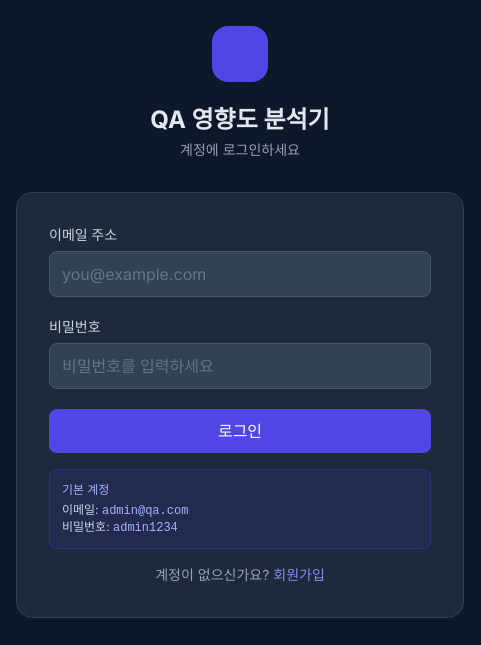
Test: C10 — LoginPage › submit with empty email shows inline error message
// Leave email blank, fill password so only email errors
In the password field with test id "password-input": {"x": 240, "y": 366} [49, 343, 431, 389], type "anypassword"
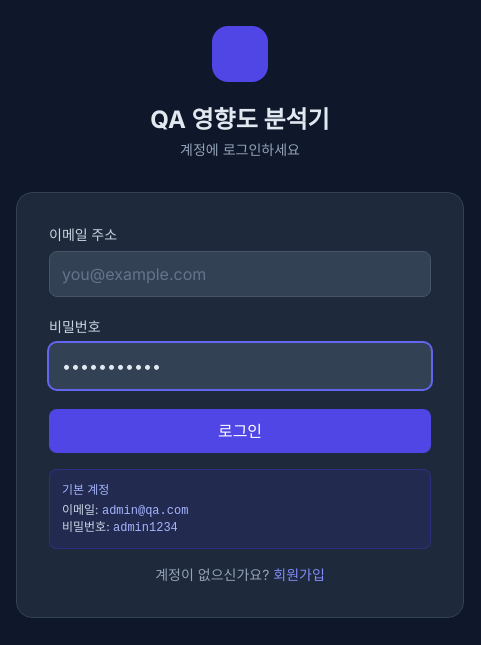
Click the button with test id "login-btn": {"x": 240, "y": 431} [49, 409, 431, 453]
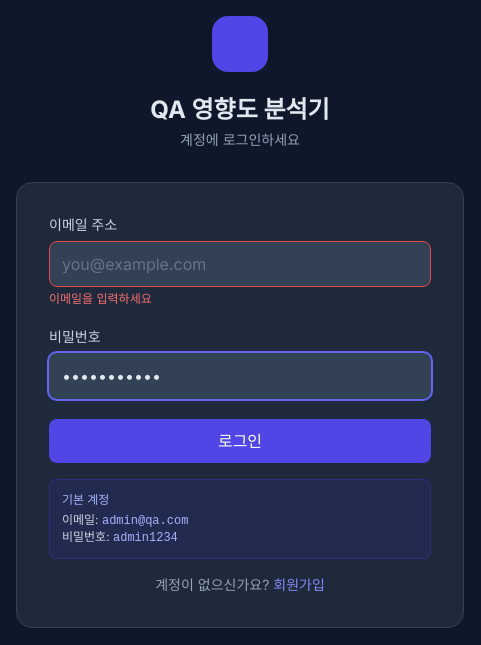
expect the text "이메일을 입력하세요" is shown: met, box [49, 291, 152, 306]
